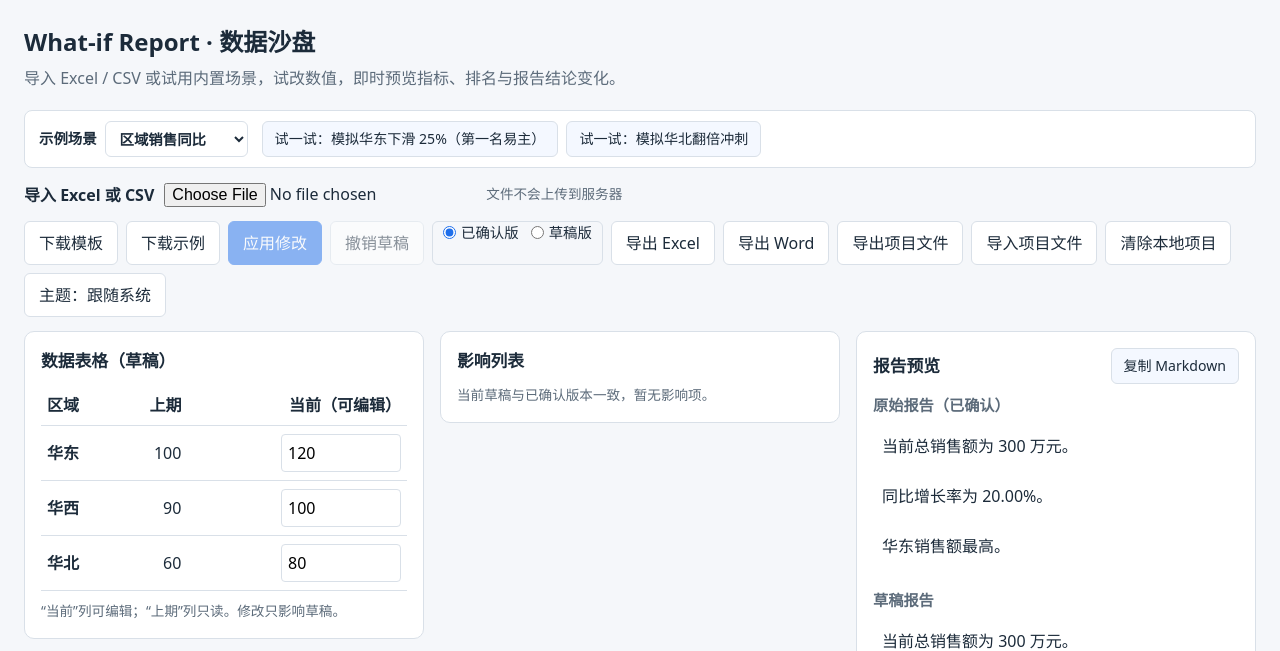
impact preview › requires a second confirmation before clearing
Replace the text in the number field named "华东当前销售额" with "90" at {"x": 341, "y": 453}, box [281,434,401,472]
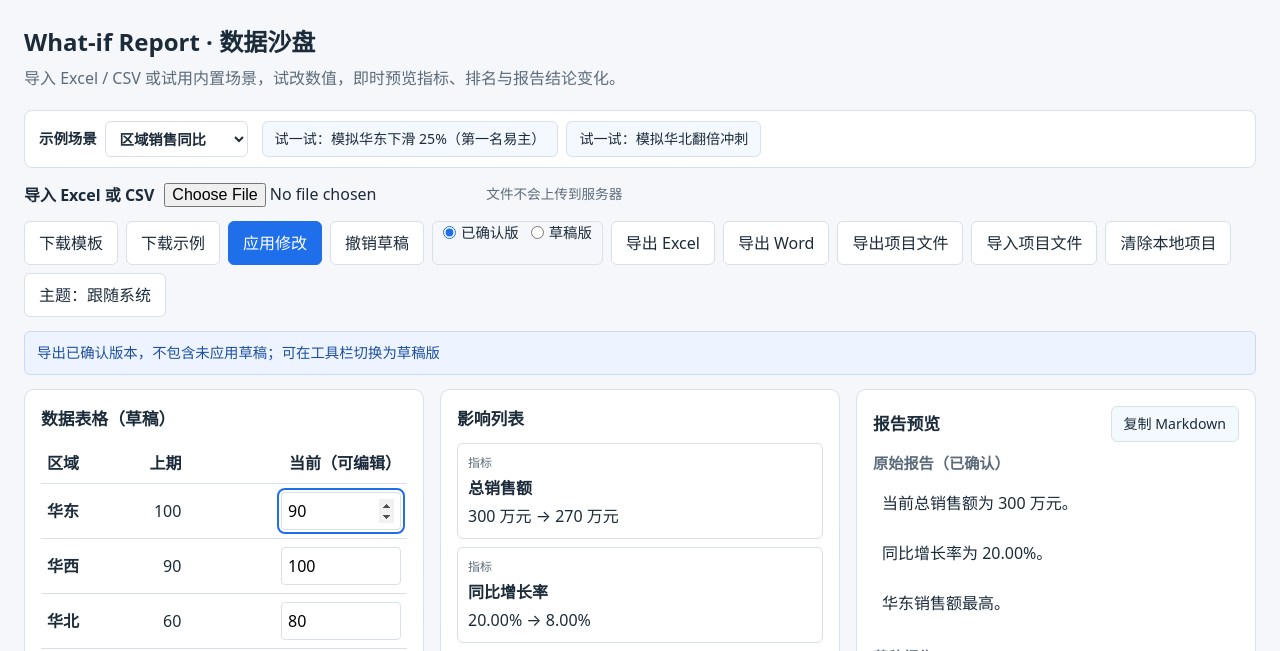
Click the button "清除本地项目" at {"x": 1168, "y": 243}, box [1105,221,1231,265]
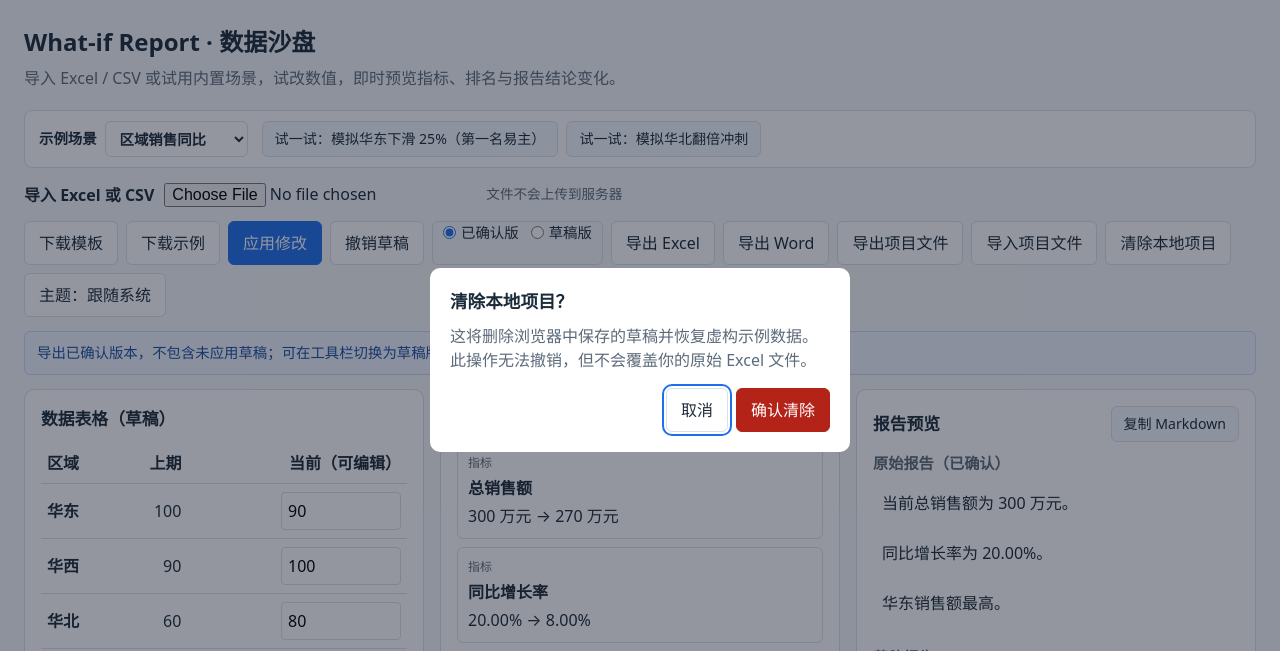
Expected: the dialog is shown, [430,268,850,452]
Click the button "取消" at {"x": 697, "y": 410}, box [666,388,728,432]
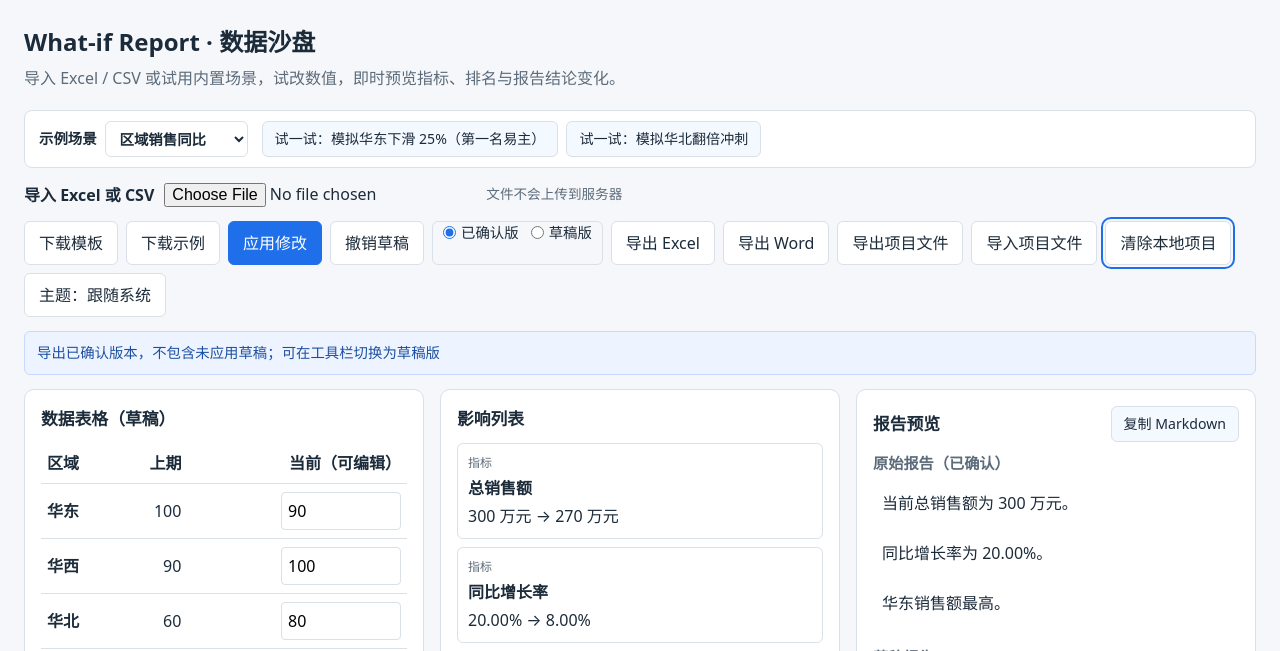
Expected: the dialog is gone
Click the button "清除本地项目" at {"x": 1168, "y": 243}, box [1105,221,1231,265]
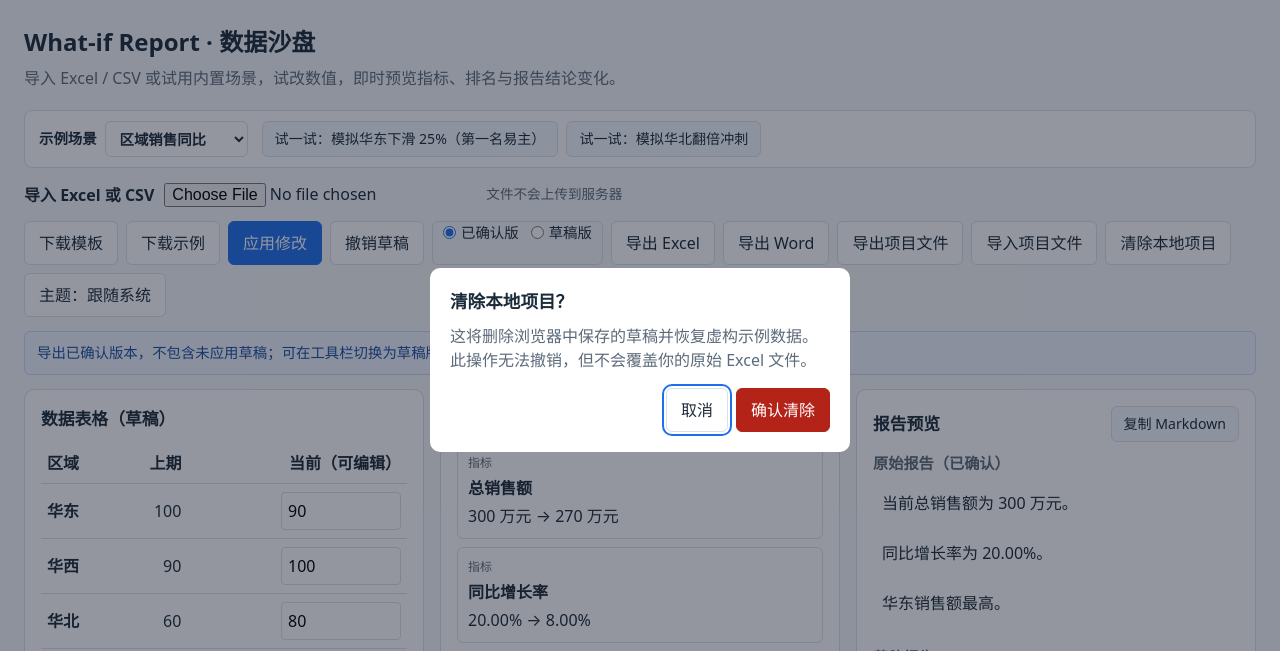
Click the button "确认清除" at {"x": 783, "y": 410}, box [736,388,830,432]
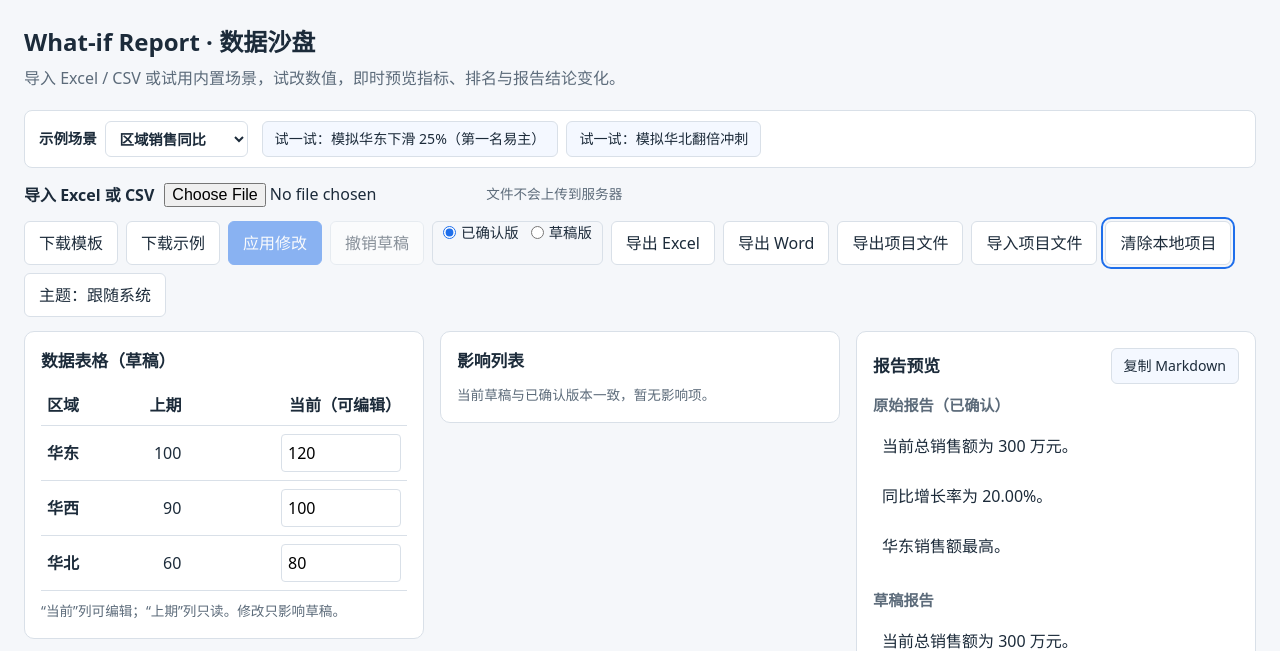
Expected: the dialog is gone
Expected: the number field named "华东当前销售额" holds "120", [281,434,401,472]
